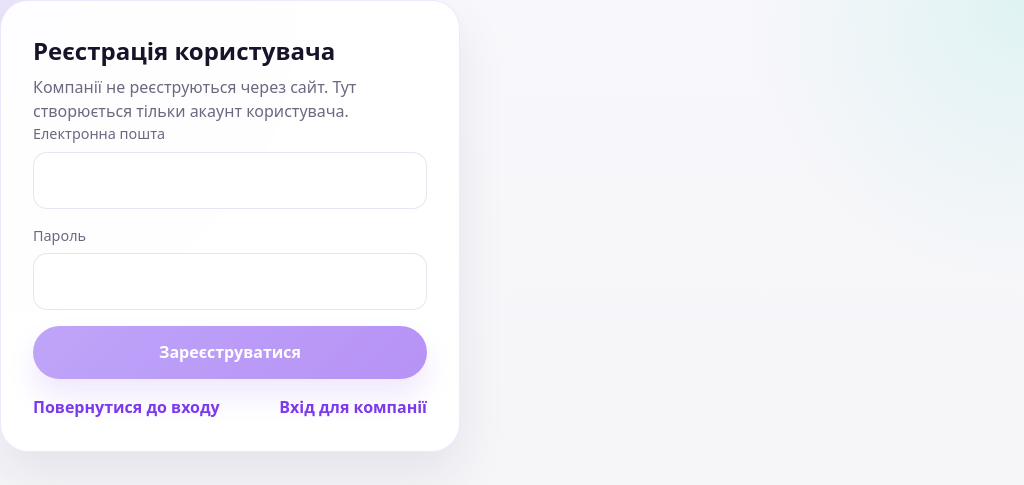
Unit-тестування компонента <RegisterPage /> › кнопка стає активною, якщо заповнити обидва поля
Type "newuser@taskero.local" into the field labelled "Електронна пошта" at (230, 180), box left=33, top=152, right=427, bottom=209
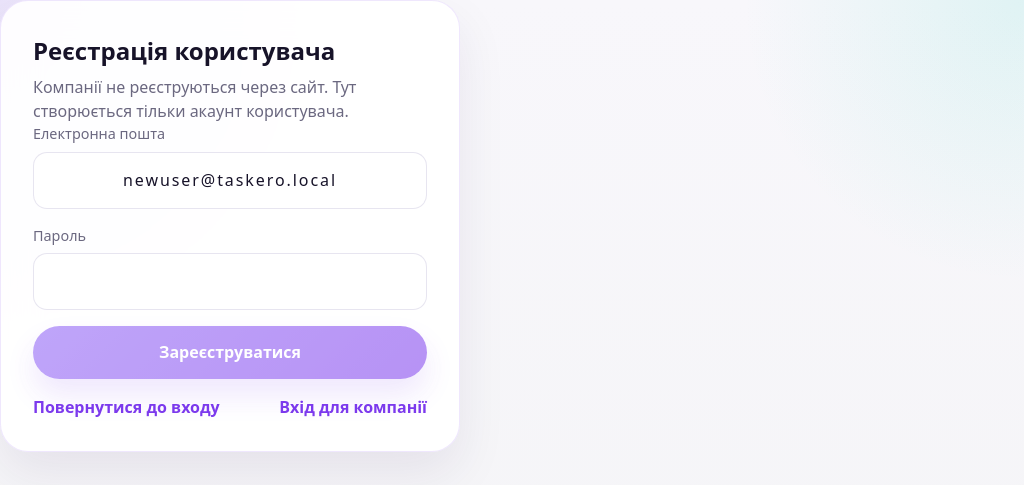
Type "mysecretpassword" into the password field labelled "Пароль" at (230, 282), box left=33, top=253, right=427, bottom=310
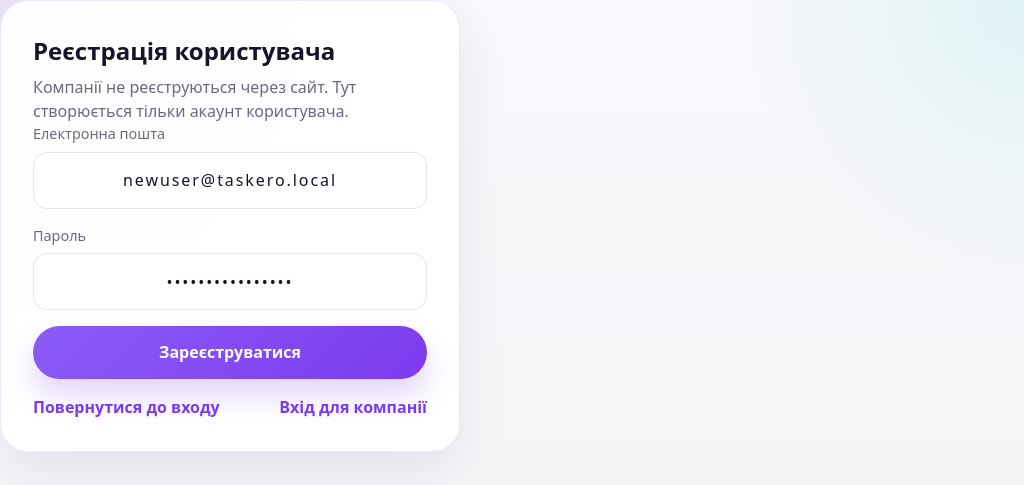
Expected: the button "Зареєструватися" is enabled, left=33, top=326, right=427, bottom=378
